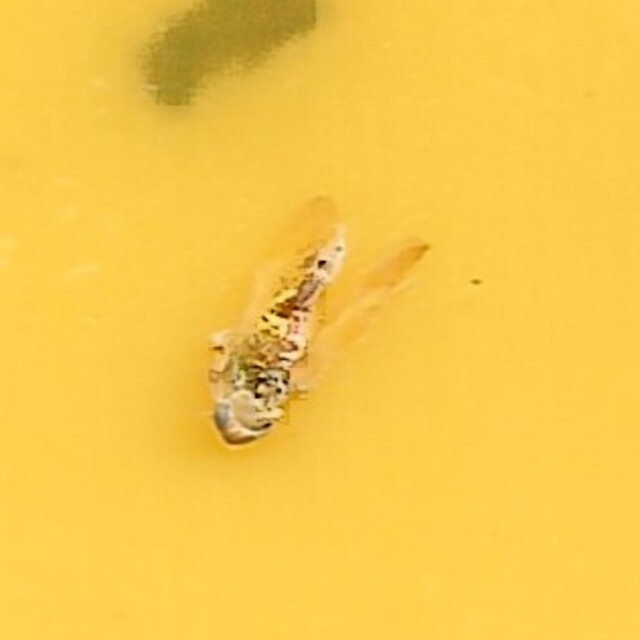Hemiptera: (203, 192, 437, 448)
